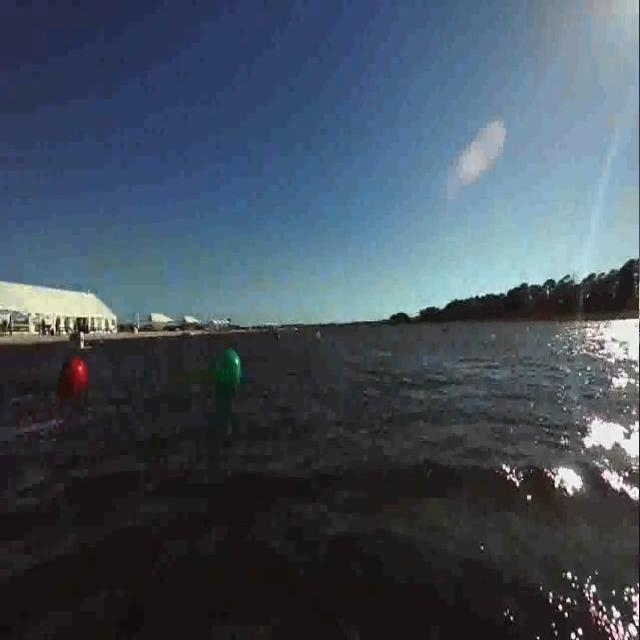green-buoy: (215, 352, 242, 402)
red-buoy: (60, 358, 86, 399)
